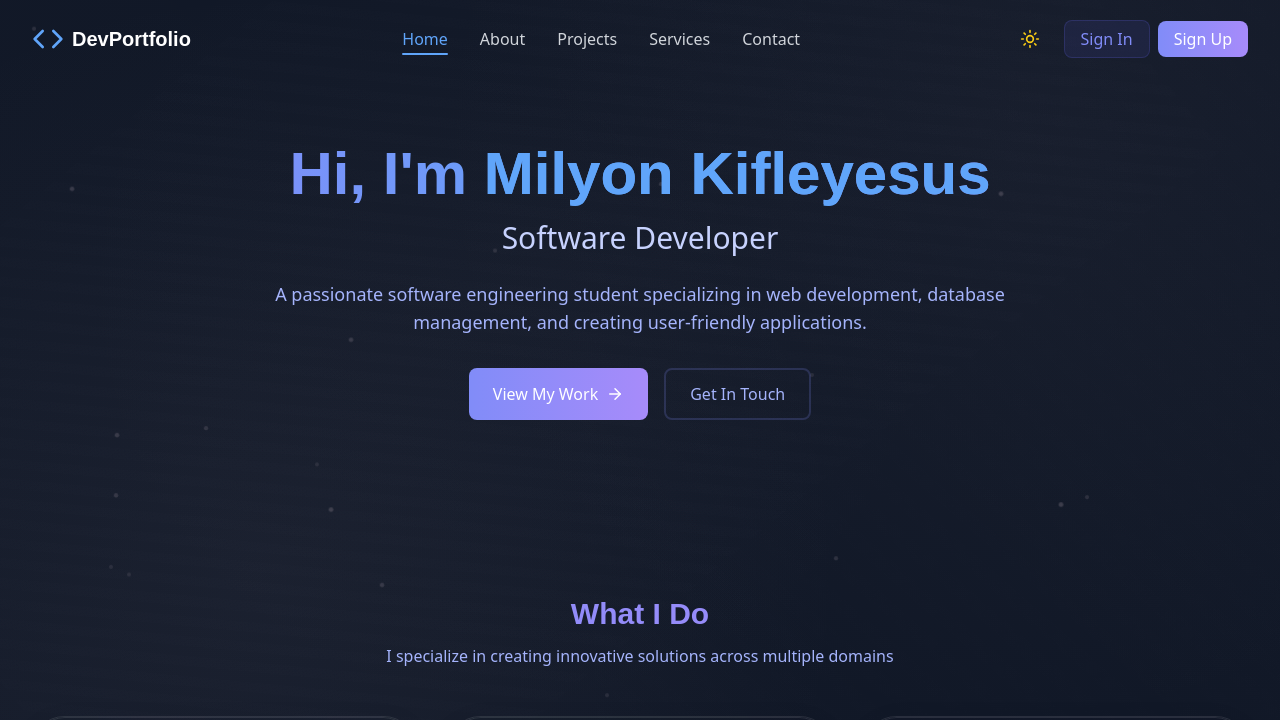
Portfolio Application E2E Tests › should navigate to About page
Click the link "About". click: (503, 39)
box: left=480, top=27, right=525, bottom=51
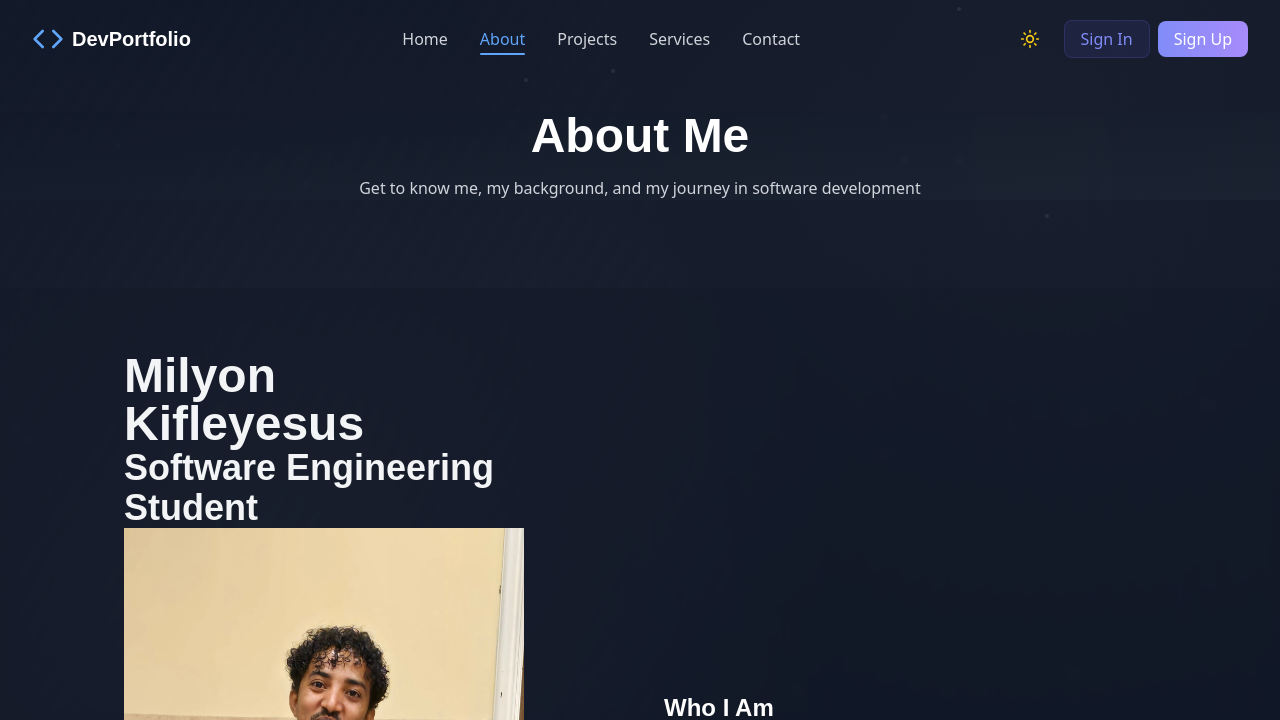
Expected: the heading "About Me" is shown, left=531, top=109, right=749, bottom=162
